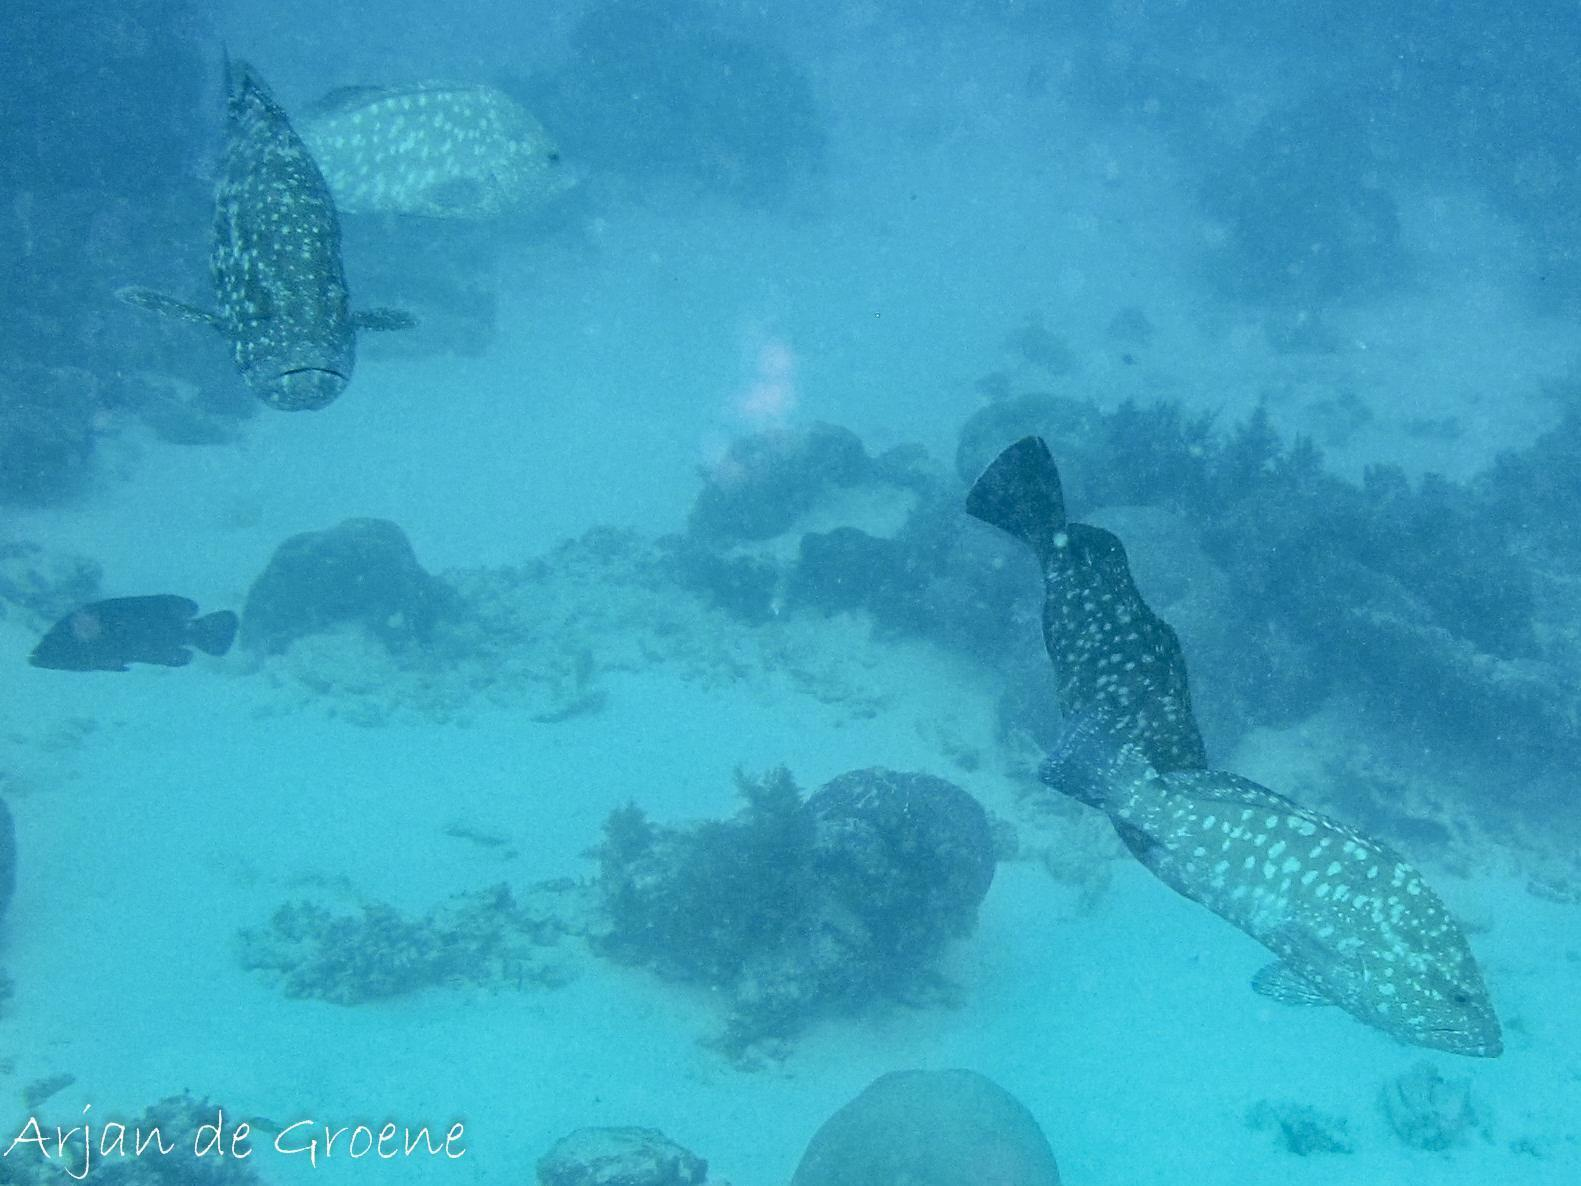Fish: (1019, 676, 1546, 1079), (91, 65, 451, 444), (918, 410, 1273, 775), (285, 60, 635, 243)
